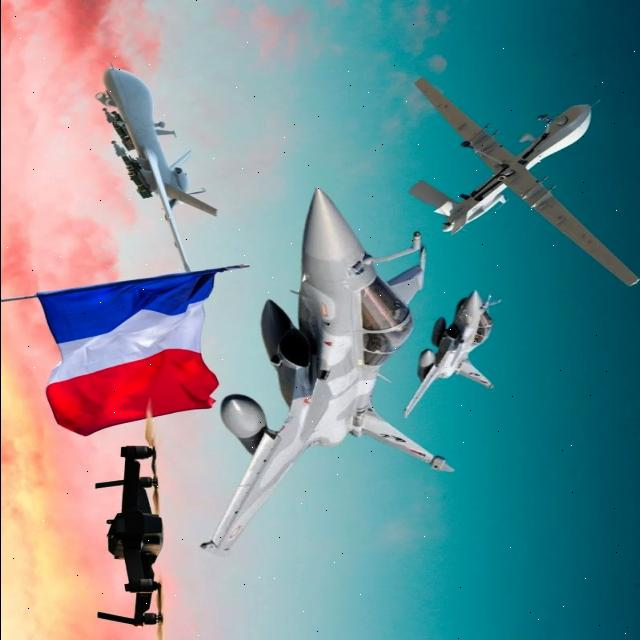MQ9: (362, 52, 640, 338), (94, 48, 252, 298)
